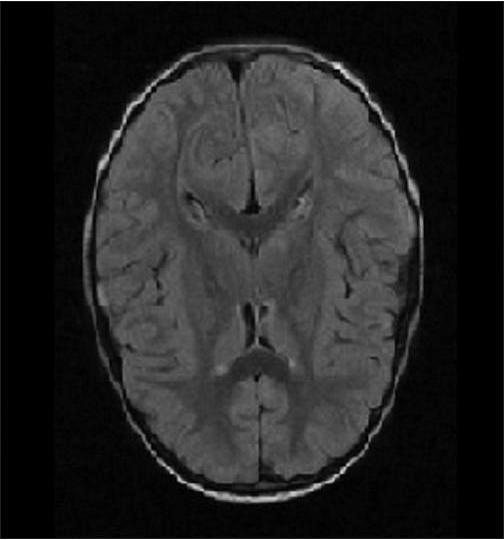Normal_Brain: (1, 1, 504, 540)
